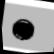correct: (8, 14, 37, 44)
